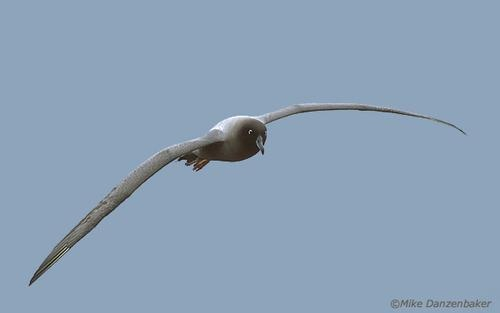bird: (26, 98, 468, 287)
